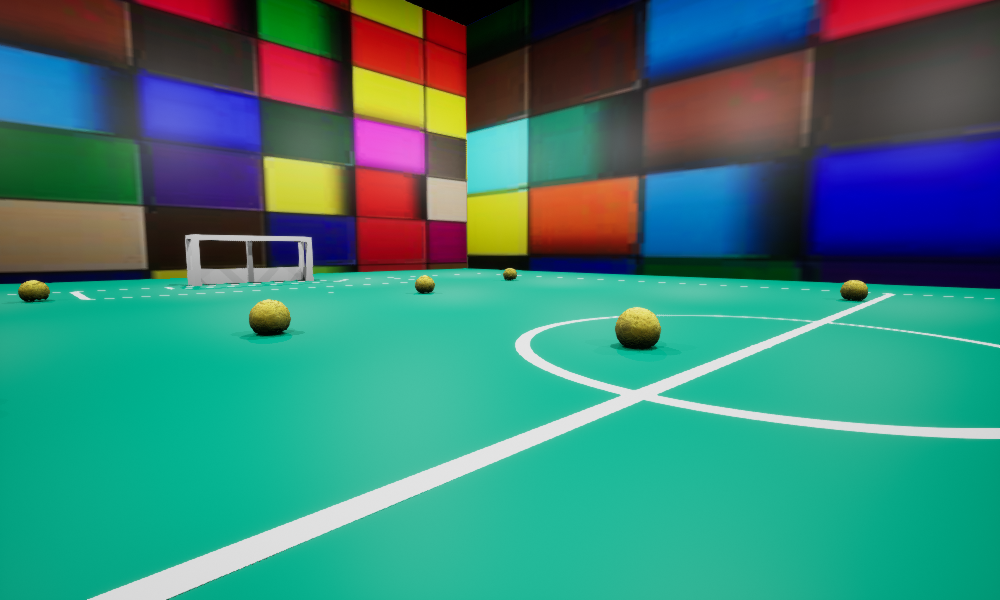b: (615, 307, 660, 348), (249, 299, 290, 334), (18, 280, 49, 301), (840, 280, 867, 300), (415, 275, 434, 292), (503, 268, 516, 279)
g: (185, 234, 313, 285)
